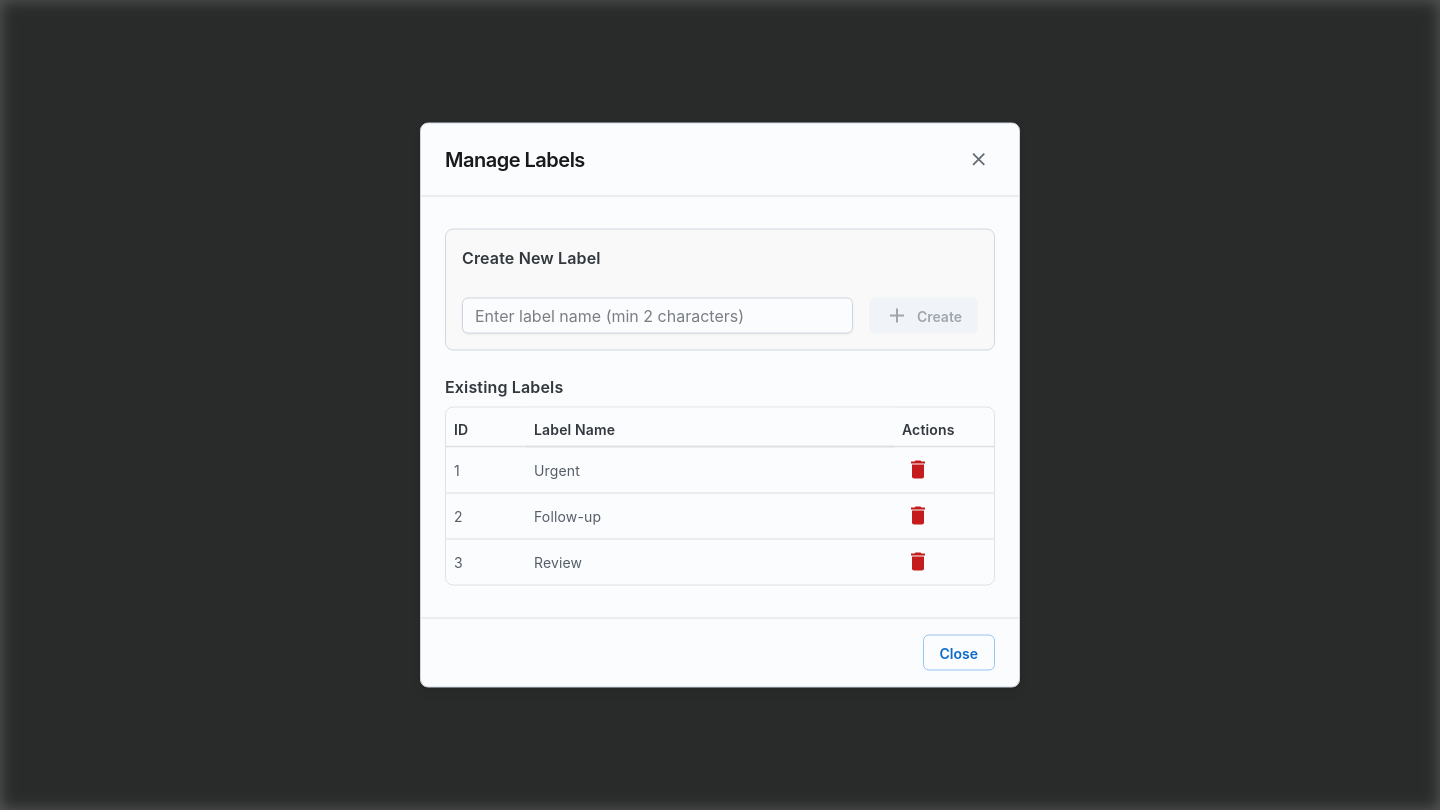
Test: LabelManagerDialog - G-F4 Tests › Disable Label › shows confirm/cancel buttons after delete click
Check: the text "Urgent" is shown, box [534,462,580,478]
Click the button without text in the row of "Urgent": (918, 470) [902,454,934,486]
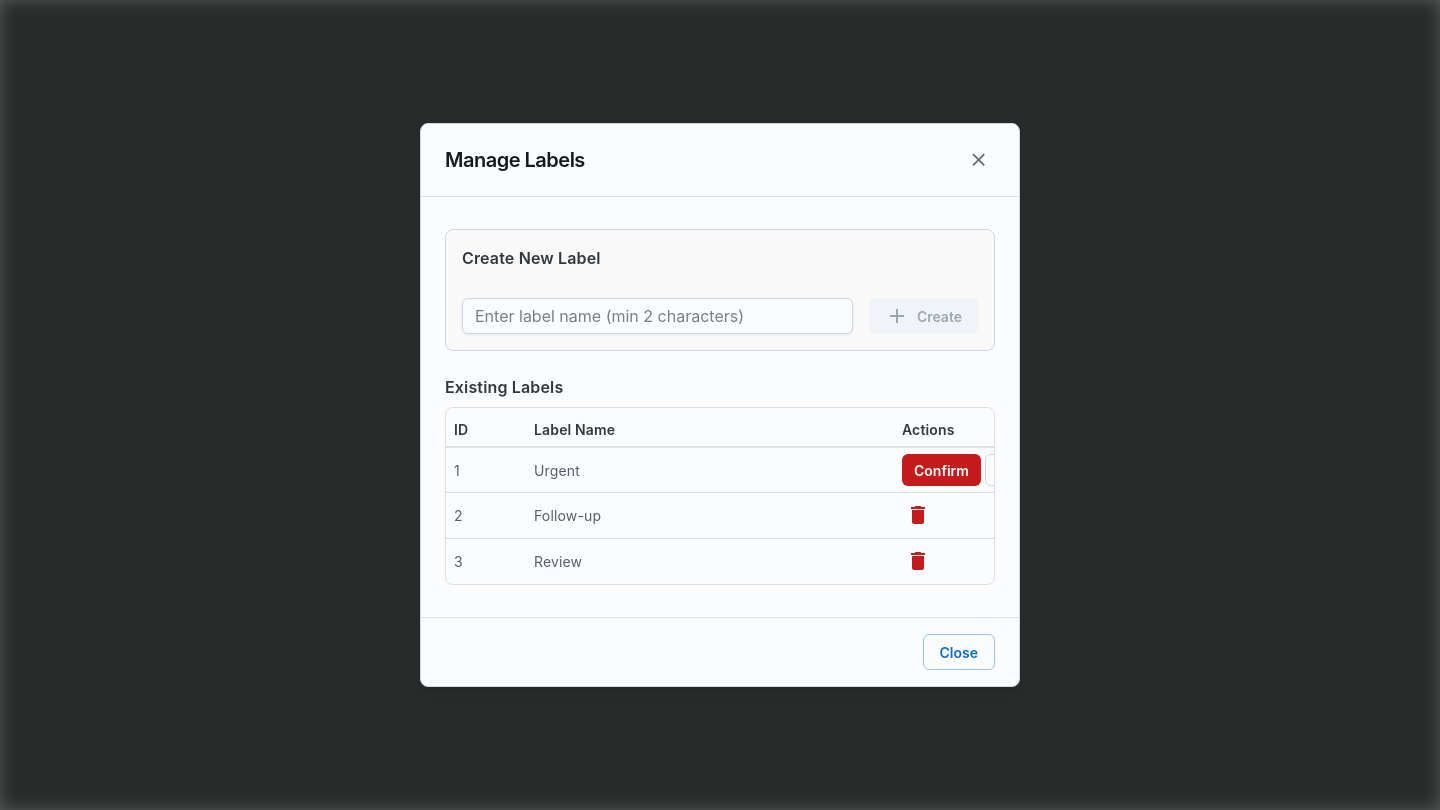
Check: the button "Confirm" is shown, box [902,454,981,486]
